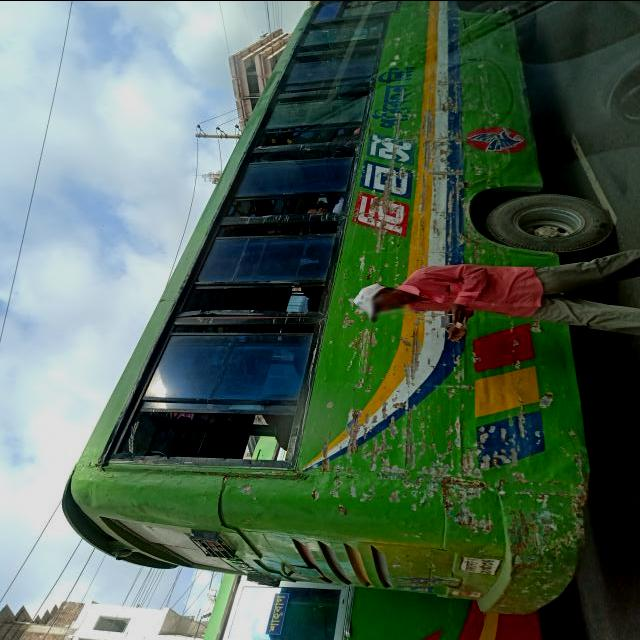bus: (61, 1, 614, 615)
